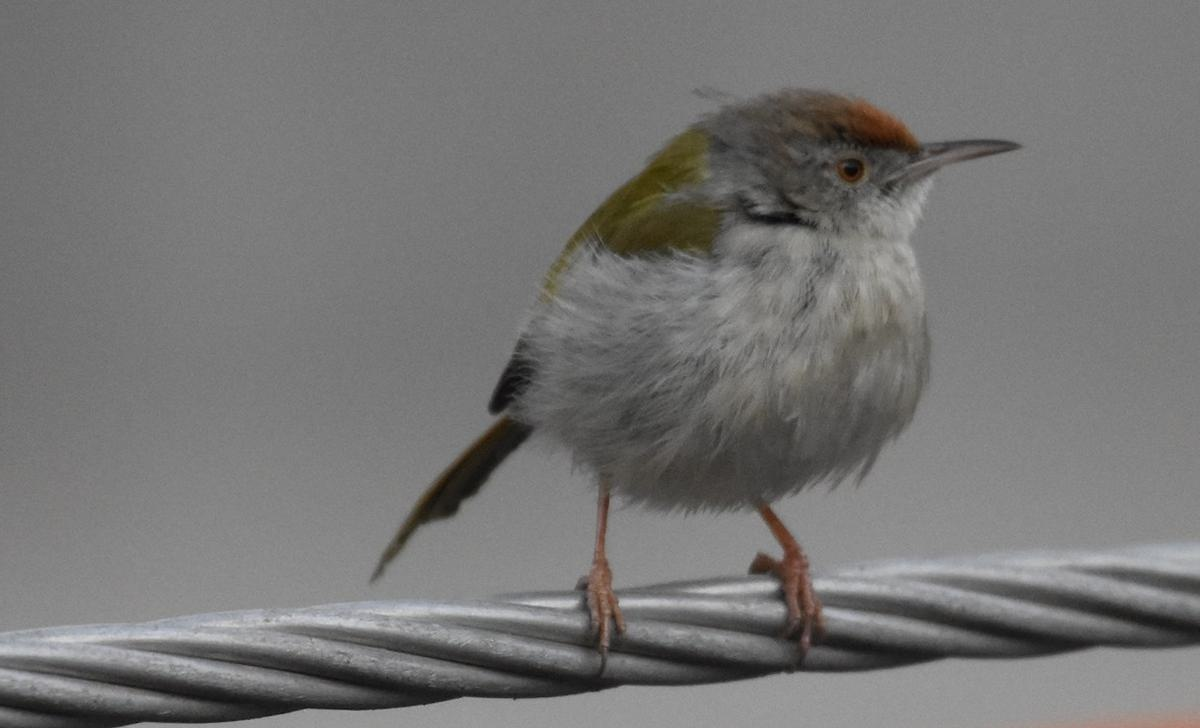tailorbird: (456, 92, 1047, 631)
